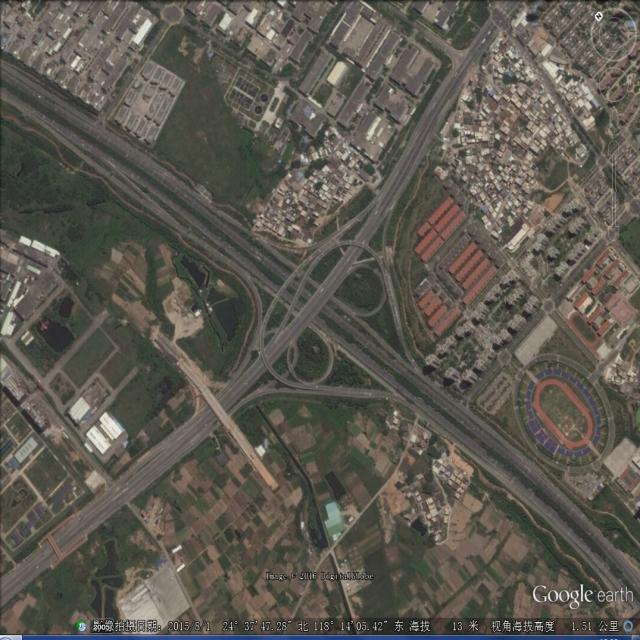overpass: (233, 197, 426, 418)
